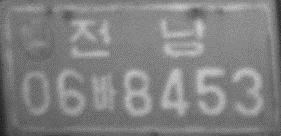0: (20, 71, 51, 117)
3: (231, 66, 265, 119)
4: (158, 68, 190, 115)
5: (194, 67, 226, 115)
6: (54, 67, 87, 116)
8: (121, 67, 152, 117)
바: (89, 70, 118, 112)
영: (16, 15, 57, 62)
전남_D: (67, 17, 208, 60)
